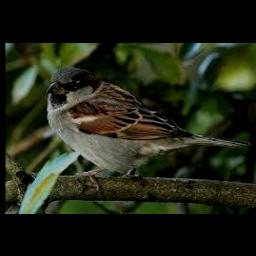Sparrow: (47, 66, 252, 188)
